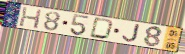5: (69, 13, 91, 37)
8: (143, 26, 164, 48), (42, 11, 62, 33)
D: (88, 17, 115, 40)
H: (18, 6, 44, 30)
J: (121, 24, 141, 44)
